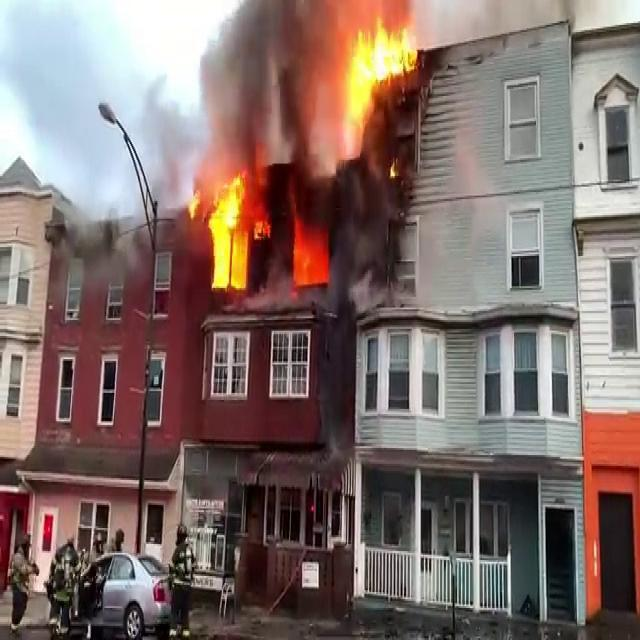Fire: (336, 2, 420, 142), (188, 166, 262, 296), (288, 199, 330, 295)
Smoke: (185, 0, 343, 176)
